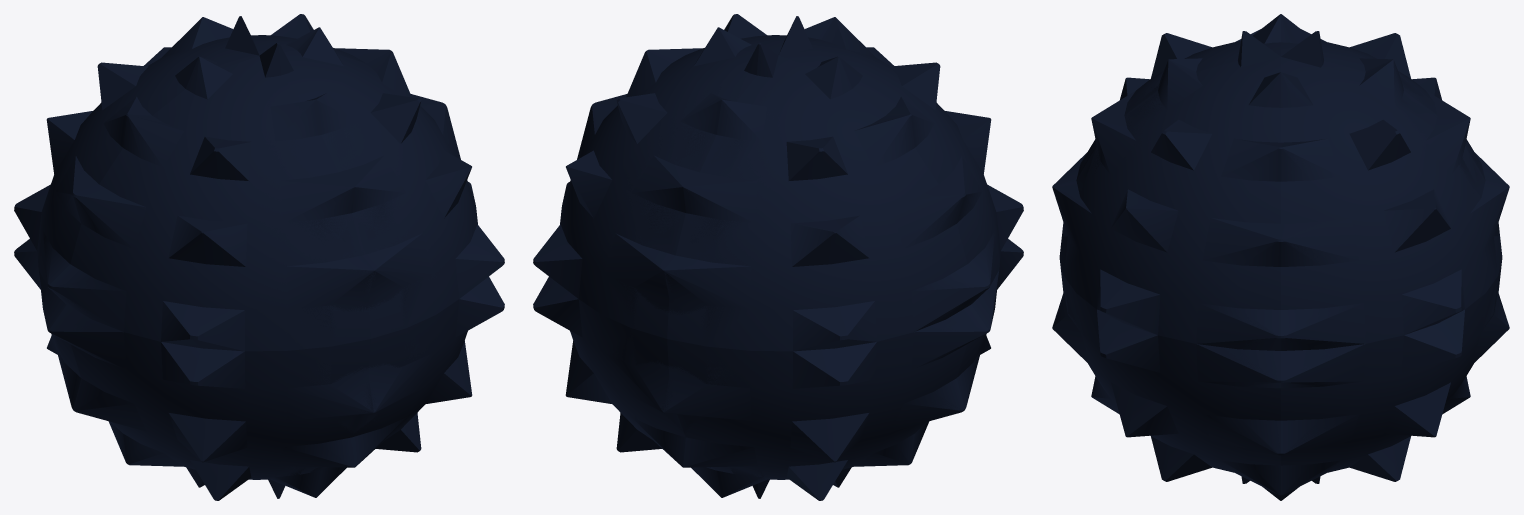
Rendered from block.fbx.
3 views of the same model, side by side, from view 1: azimuth 30°, elevation 25°; view 2: azimuth 150°, elevation 25°; view 3: azimuth 270°, elevation 25° (orthographic).
Visible parts, largest first — view 1: Sphere; view 2: Sphere; view 3: Sphere.
Boxes of the visible parts, x1,y1,x2,y2 form: Sphere: (14,14,504,500); Sphere: (533,14,1023,500); Sphere: (1052,14,1509,500).
Size of the model in its own units: 218 by 225 by 207.
